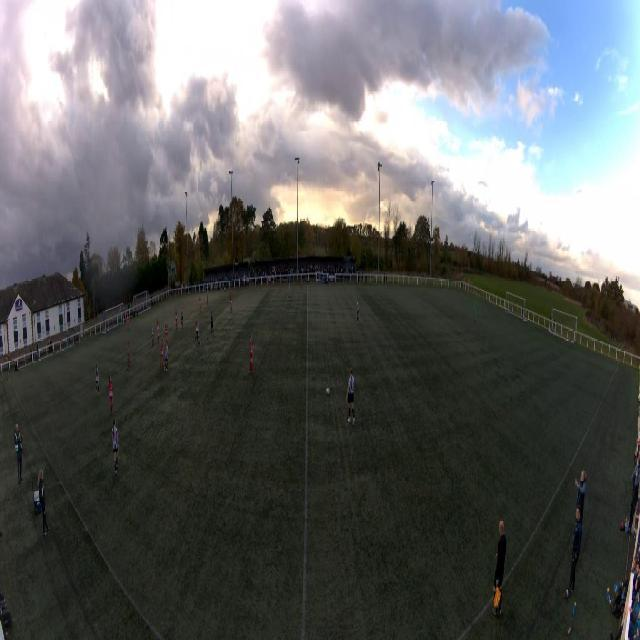ball: (326, 387, 330, 395)
player: (346, 368, 357, 426), (111, 417, 119, 474), (108, 377, 114, 415), (250, 335, 255, 376), (164, 341, 169, 372), (96, 364, 100, 396), (160, 338, 164, 370), (197, 323, 201, 350), (356, 297, 360, 324), (210, 312, 214, 336), (163, 322, 168, 340), (157, 316, 160, 345), (127, 340, 130, 368), (288, 281, 292, 300), (195, 318, 198, 343), (151, 323, 154, 345), (181, 306, 184, 328), (230, 294, 233, 314), (176, 309, 178, 330), (474, 302, 476, 322), (127, 314, 129, 330), (207, 291, 209, 307), (199, 297, 201, 313)
